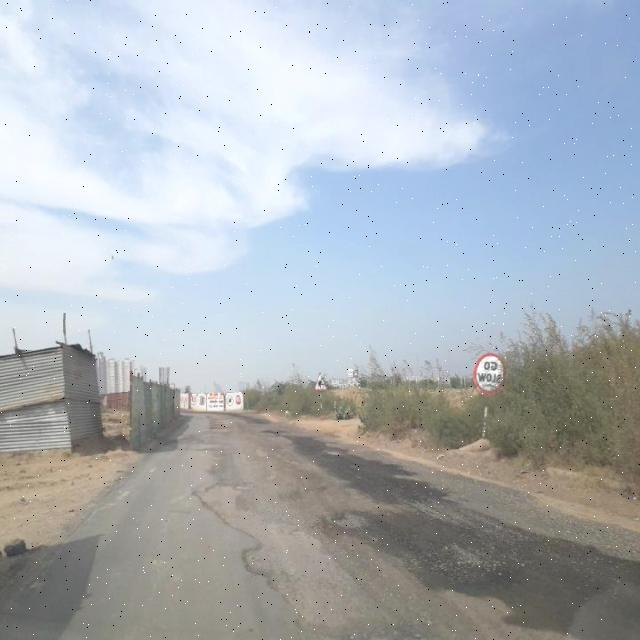D40: (176, 440, 490, 639), (345, 469, 640, 639), (323, 502, 377, 534)
